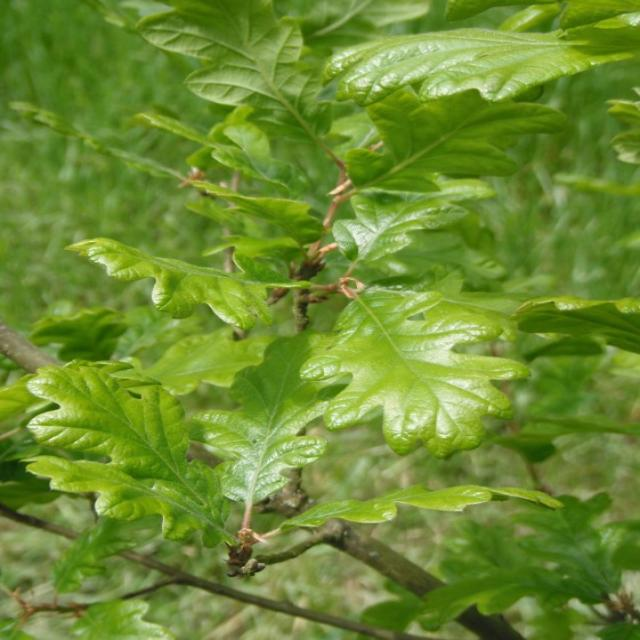Pseudotsuga menziesii: (27, 0, 593, 516)
